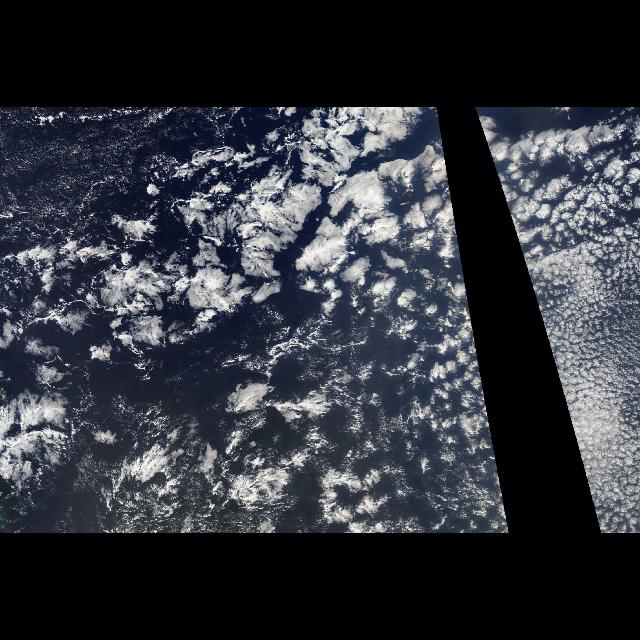Flower: (271, 153, 501, 493), (515, 152, 639, 294), (490, 153, 500, 190)
